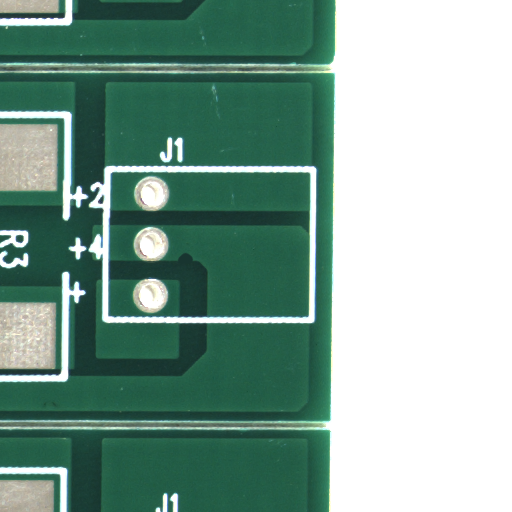Mouse_bite: (185, 258, 199, 268)
